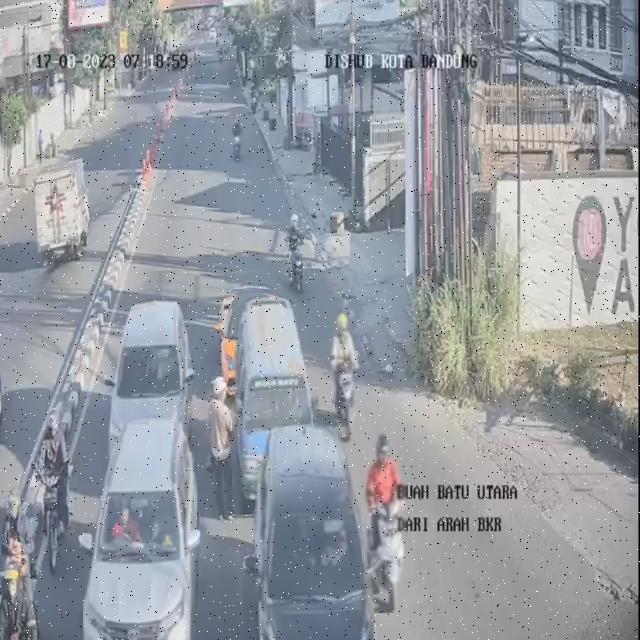cars: (255, 423, 372, 637), (83, 421, 197, 640), (232, 290, 313, 496), (112, 296, 195, 447)
motorcycle: (362, 430, 408, 613), (329, 301, 363, 436), (18, 459, 47, 575), (44, 423, 68, 538), (284, 209, 308, 290), (230, 116, 246, 163)
